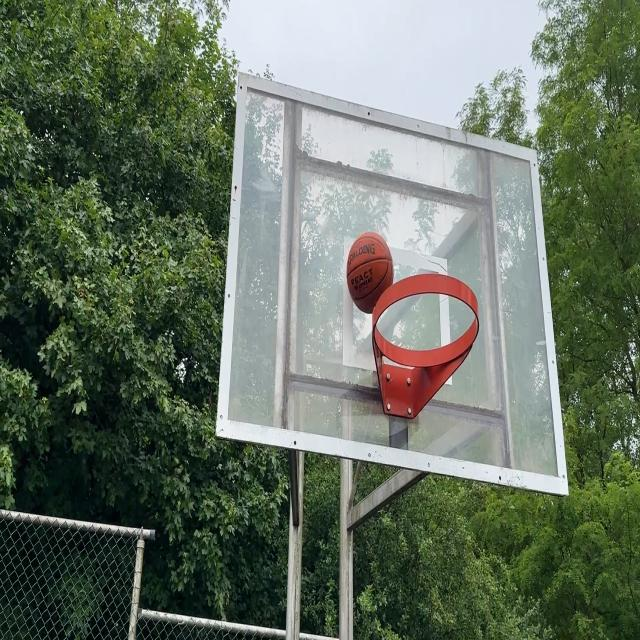rebound_hit: (347, 230, 393, 316)
